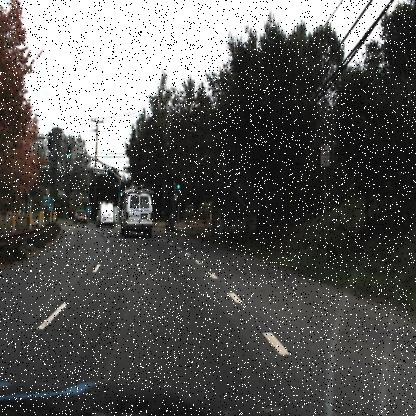car: (122, 188, 153, 235), (96, 199, 114, 230), (72, 206, 87, 226)
trafficLight-Green: (64, 139, 76, 162), (174, 180, 184, 196), (174, 174, 184, 188), (115, 188, 124, 202)
